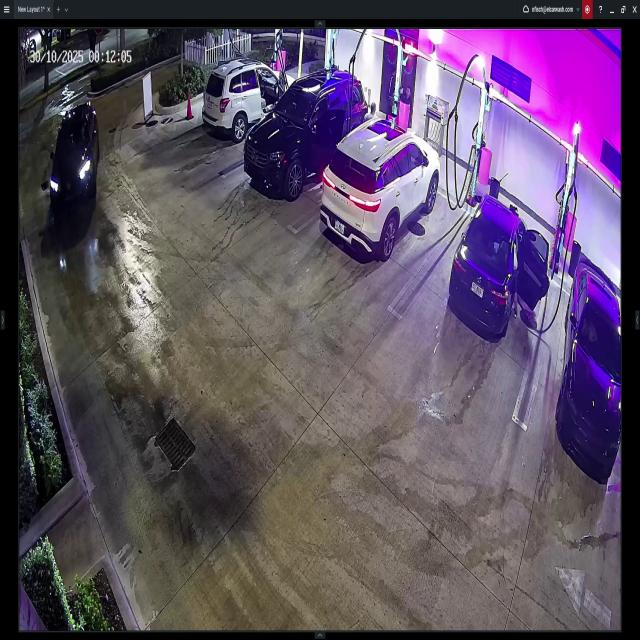Car: (322, 114, 438, 263), (449, 185, 548, 347), (243, 68, 366, 190), (556, 266, 618, 474), (201, 58, 296, 138), (51, 105, 96, 216)
